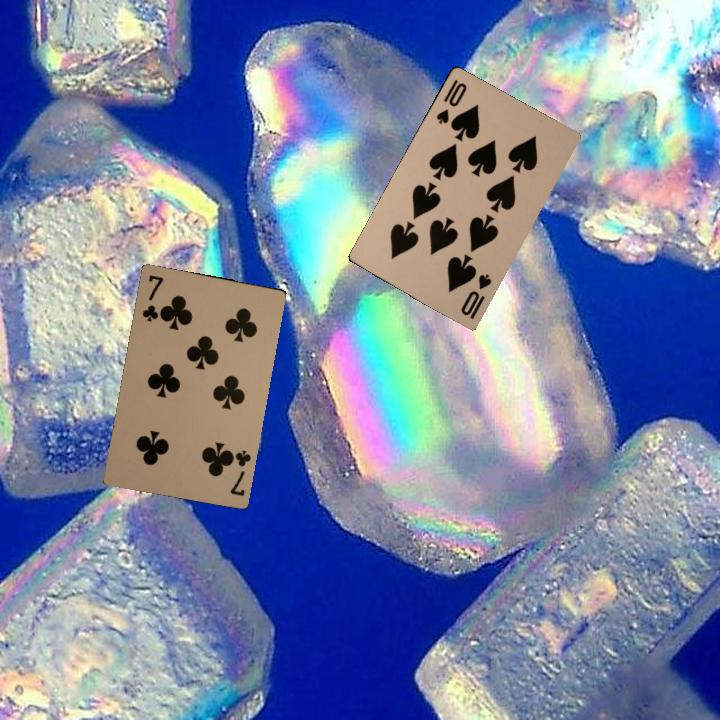10s: (455, 270, 494, 322), (432, 75, 469, 127)
7c: (138, 271, 166, 324), (225, 446, 253, 499)
